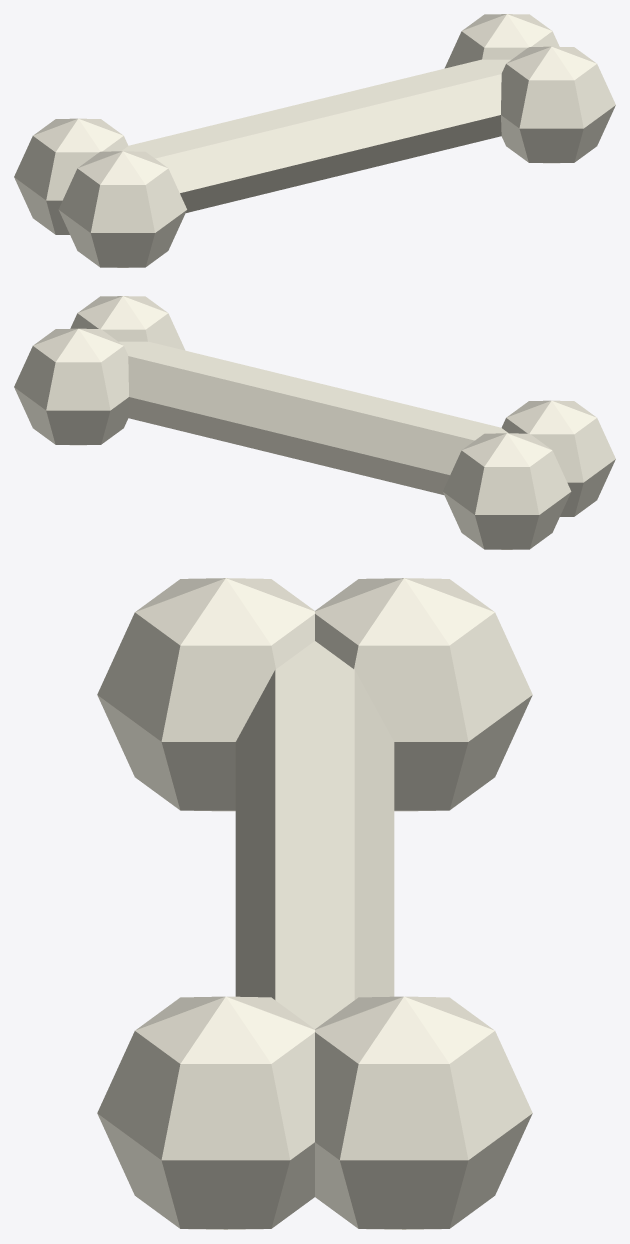
File: Basura_Organico_Hueso.fbx
3 views of the same model, one above another, from view 1: azimuth 30°, elevation 25°; view 2: azimuth 150°, elevation 25°; view 3: azimuth 270°, elevation 25° (orthographic). The views are drawn at different scales.
Visible parts, largest first — view 1: Basura_Organico_Hueso; view 2: Basura_Organico_Hueso; view 3: Basura_Organico_Hueso.
Part boxes in pixels (x1=…): Basura_Organico_Hueso: x1=14, y1=14, x2=615, y2=267; Basura_Organico_Hueso: x1=14, y1=296, x2=615, y2=549; Basura_Organico_Hueso: x1=97, y1=578, x2=532, y2=1229.
Bounding box in the file's own units: 1.23 × 0.26 × 0.44.
Materials: 1 (1 with a texture image).
